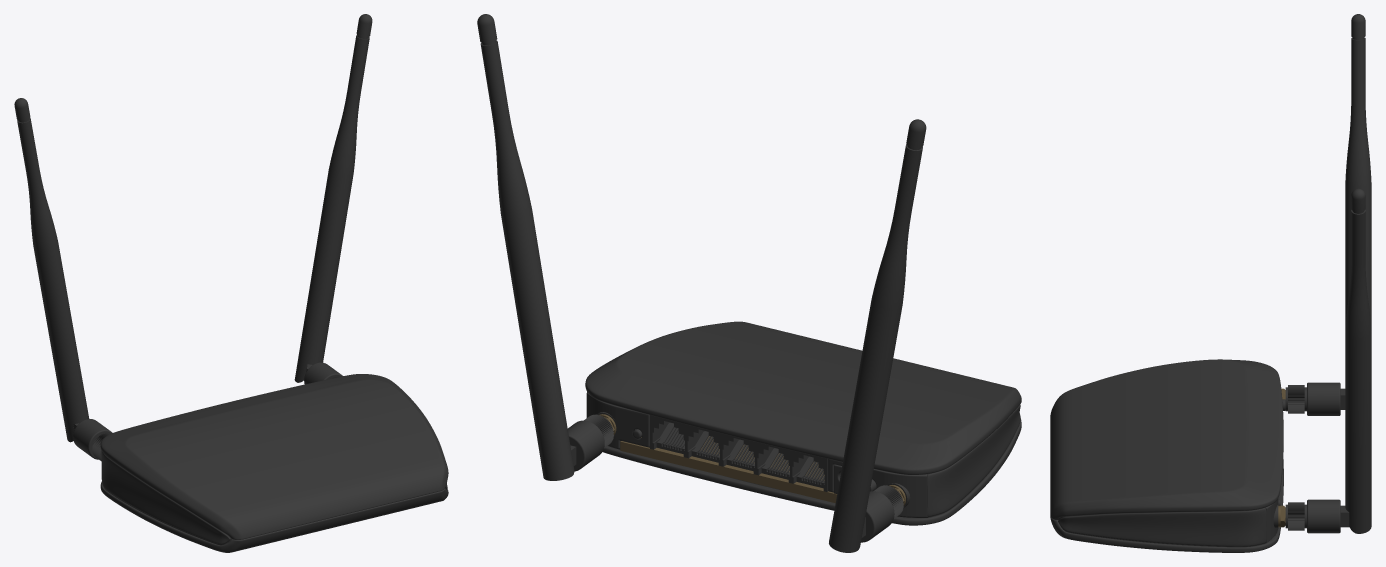
File: routerAR.glb
3 renders of one model, left to right at view 1: azimuth 30°, elevation 25°; view 2: azimuth 150°, elevation 25°; view 3: azimuth 270°, elevation 25°, orthographic. The views are drawn at different scales.
Parts seen in each view (by area): view 1: Zyxel NBG-418N v2_p009, Zyxel NBG-418N v2_p003, Zyxel NBG-418N v2_p006, Zyxel NBG-418N v2_p010, Zyxel NBG-418N v2_p008, Zyxel NBG-418N v2_p002, Zyxel NBG-418N v2_p007; view 2: Zyxel NBG-418N v2_p009, Zyxel NBG-418N v2_p003, Zyxel NBG-418N v2_p006, Zyxel NBG-418N v2_p004, Zyxel NBG-418N v2_p010, Zyxel NBG-418N v2_p008, Zyxel NBG-418N v2_p007, Zyxel NBG-418N v2_p001, Zyxel NBG-418N v2_p002, Zyxel NBG-418N v2_p005; view 3: Zyxel NBG-418N v2_p009, Zyxel NBG-418N v2_p003, Zyxel NBG-418N v2_p010, Zyxel NBG-418N v2_p006, Zyxel NBG-418N v2_p007, Zyxel NBG-418N v2_p002, Zyxel NBG-418N v2_p008.
Part boxes in pixels (x1,y1,x2,y2): Zyxel NBG-418N v2_p009: (100, 374, 448, 539); Zyxel NBG-418N v2_p003: (294, 14, 372, 382); Zyxel NBG-418N v2_p006: (14, 98, 89, 442); Zyxel NBG-418N v2_p010: (101, 451, 447, 545); Zyxel NBG-418N v2_p008: (100, 481, 448, 552); Zyxel NBG-418N v2_p002: (73, 419, 112, 461); Zyxel NBG-418N v2_p007: (304, 362, 342, 384); Zyxel NBG-418N v2_p009: (585, 321, 1021, 474); Zyxel NBG-418N v2_p003: (477, 14, 574, 480); Zyxel NBG-418N v2_p006: (829, 119, 926, 552); Zyxel NBG-418N v2_p004: (620, 415, 837, 503); Zyxel NBG-418N v2_p010: (587, 392, 1020, 517); Zyxel NBG-418N v2_p008: (602, 418, 1021, 525); Zyxel NBG-418N v2_p007: (567, 412, 617, 471); Zyxel NBG-418N v2_p001: (828, 459, 927, 517); Zyxel NBG-418N v2_p002: (861, 483, 910, 542); Zyxel NBG-418N v2_p005: (586, 392, 649, 449); Zyxel NBG-418N v2_p009: (1050, 359, 1283, 519); Zyxel NBG-418N v2_p003: (1345, 188, 1371, 533); Zyxel NBG-418N v2_p010: (1058, 507, 1266, 547); Zyxel NBG-418N v2_p006: (1345, 14, 1371, 331); Zyxel NBG-418N v2_p007: (1273, 499, 1349, 533); Zyxel NBG-418N v2_p002: (1281, 382, 1345, 415); Zyxel NBG-418N v2_p008: (1050, 459, 1283, 552).
Size of the model in its own units: 0.179 by 0.1774 by 0.1344.
